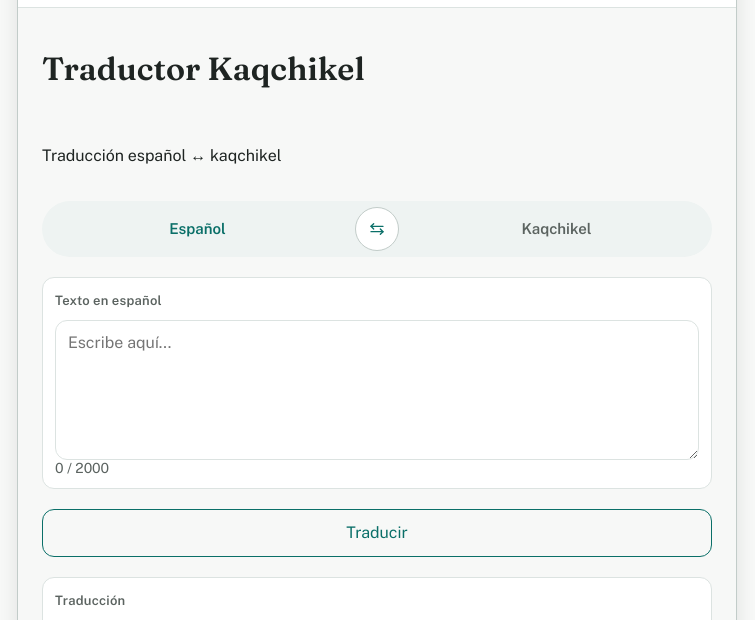
Test case: App translate flow › shows a translation-quality disclaimer once a translation succeeds, but not before
Type "Hola" into the text box named "Texto en " at (377, 390), box [55, 320, 699, 460]
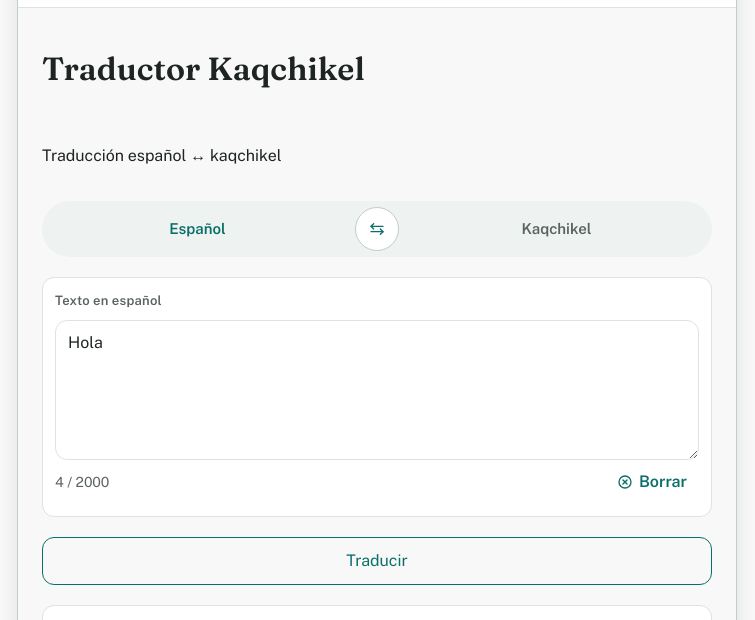
Click the button "Traducir" at (377, 561), box [42, 537, 712, 585]
(page scrolled)
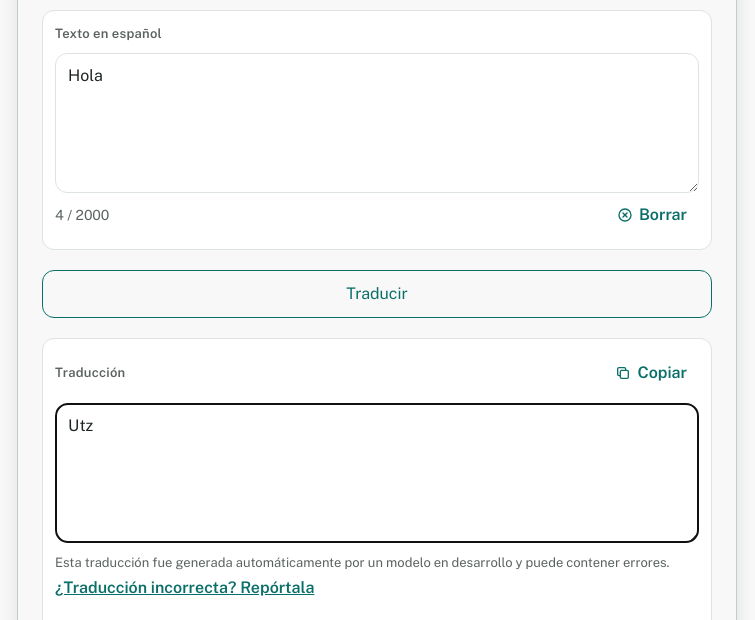
Expected: the text "Esta traducción fue generada automáticamente por un modelo en desarrollo y puede contener errores." is shown, [55, 555, 670, 570]
